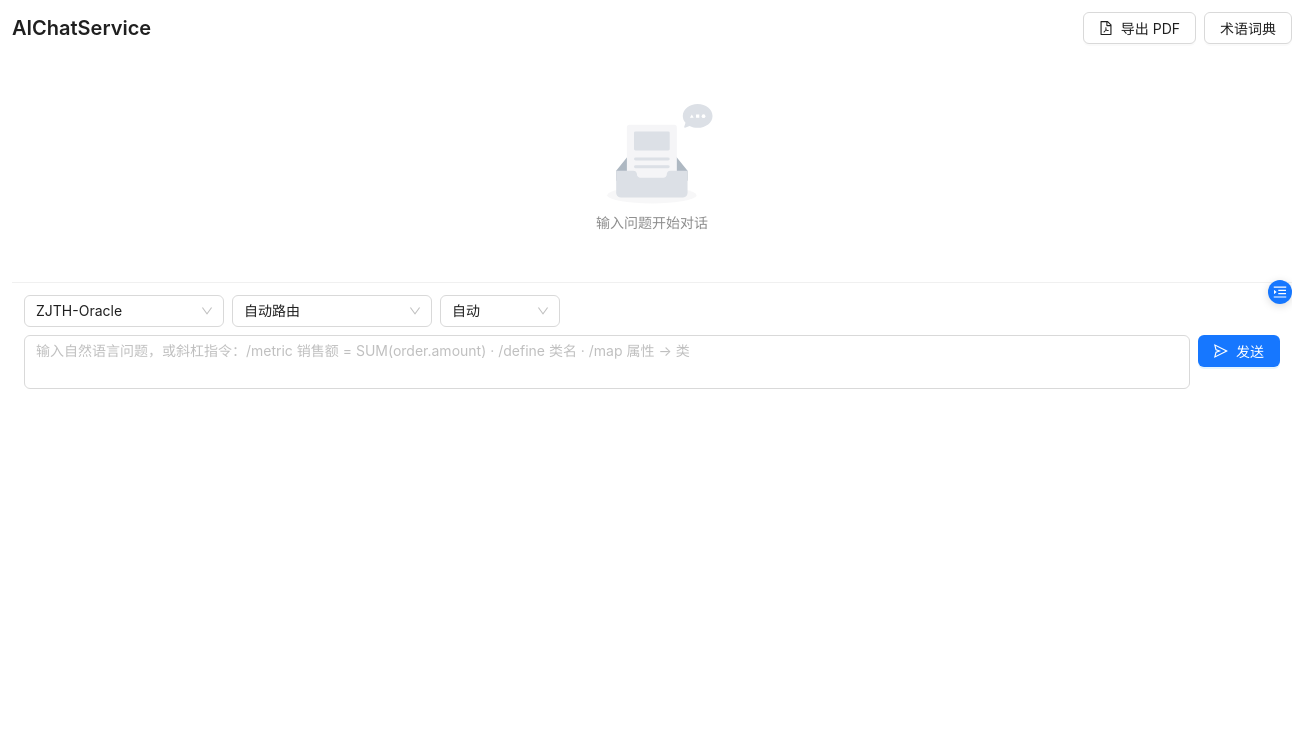
Test: ChatPage › 领域命令意图（define）响应正常展示并入库
The width and height of the screenshot is (1304, 732).
Type "定义指标 销售额 = SUM(order.amount)" into the text box with placeholder "输入自然语言问题". click: (607, 362)
box: [24,335,1190,389]
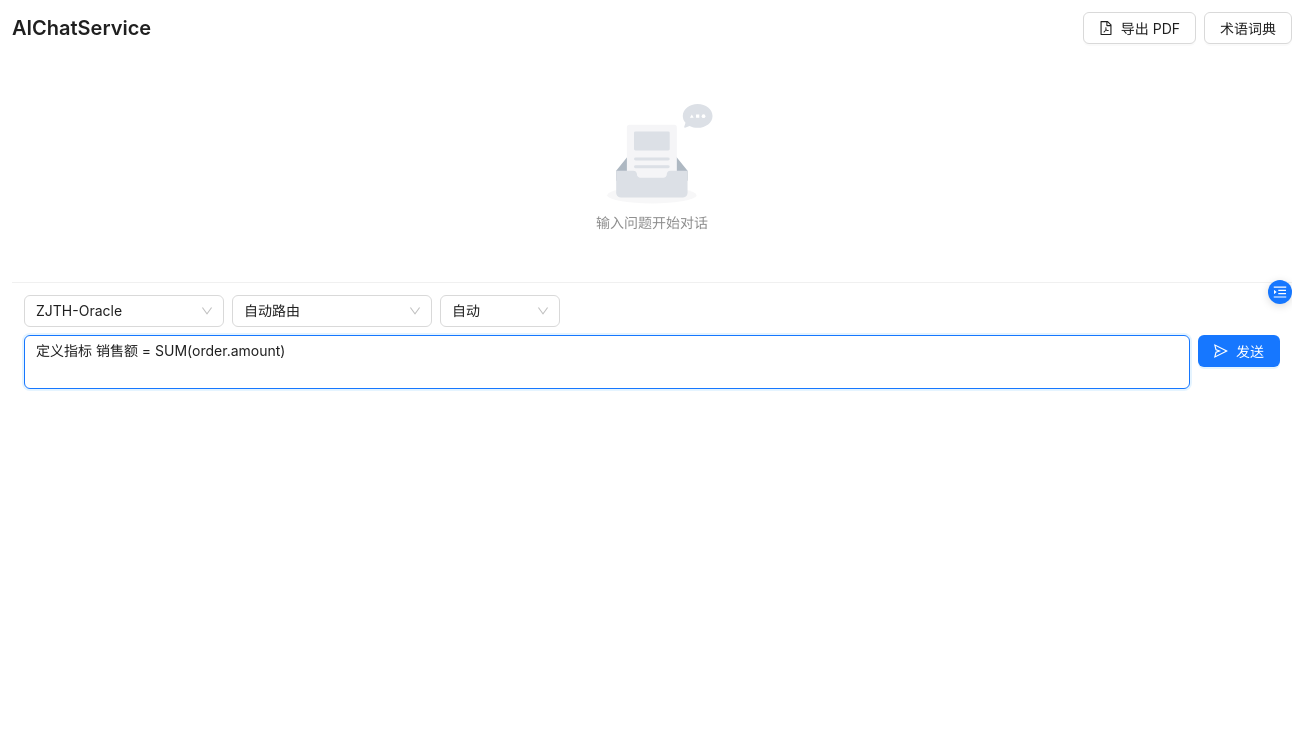
Click the button "发送". click: click(1239, 351)
box: [1198,335,1280,367]
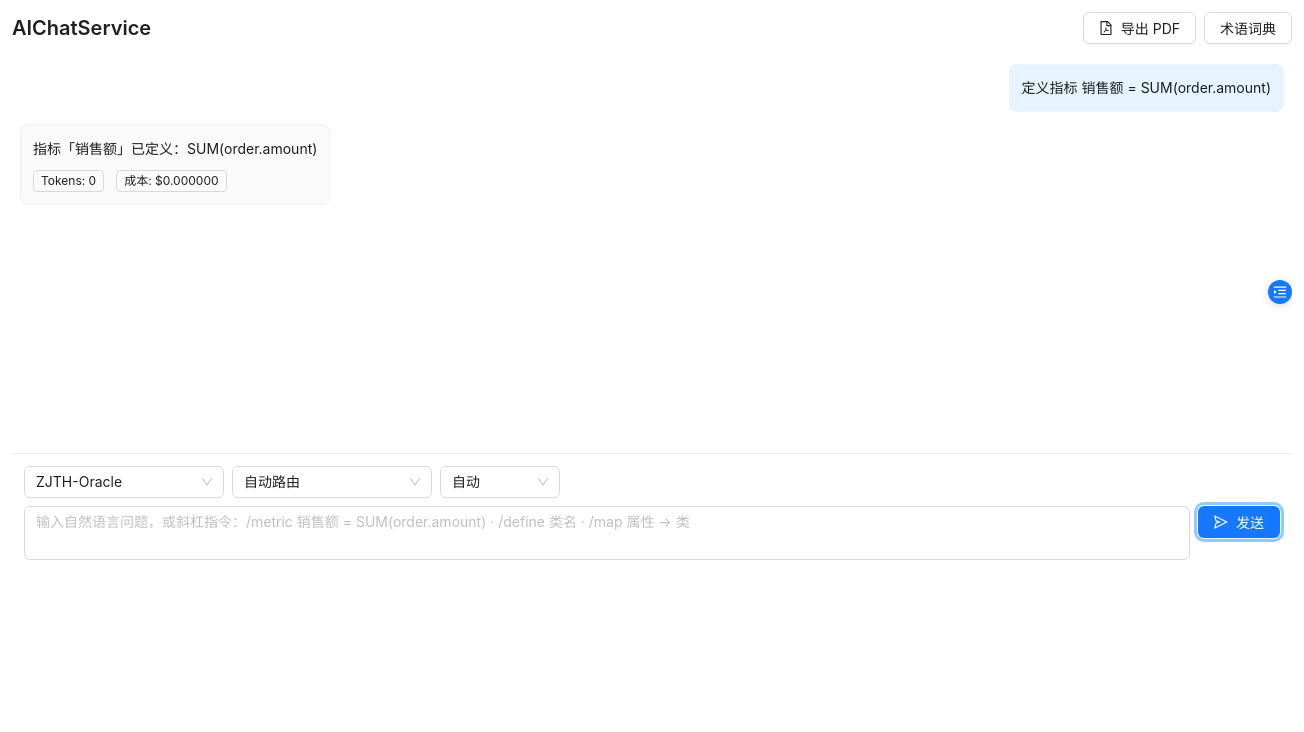
Expected: the text "指标「销售额」已定义：SUM(order.amount)" is shown, [33,137,317,161]
